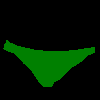mutande: (3, 39, 95, 87)
